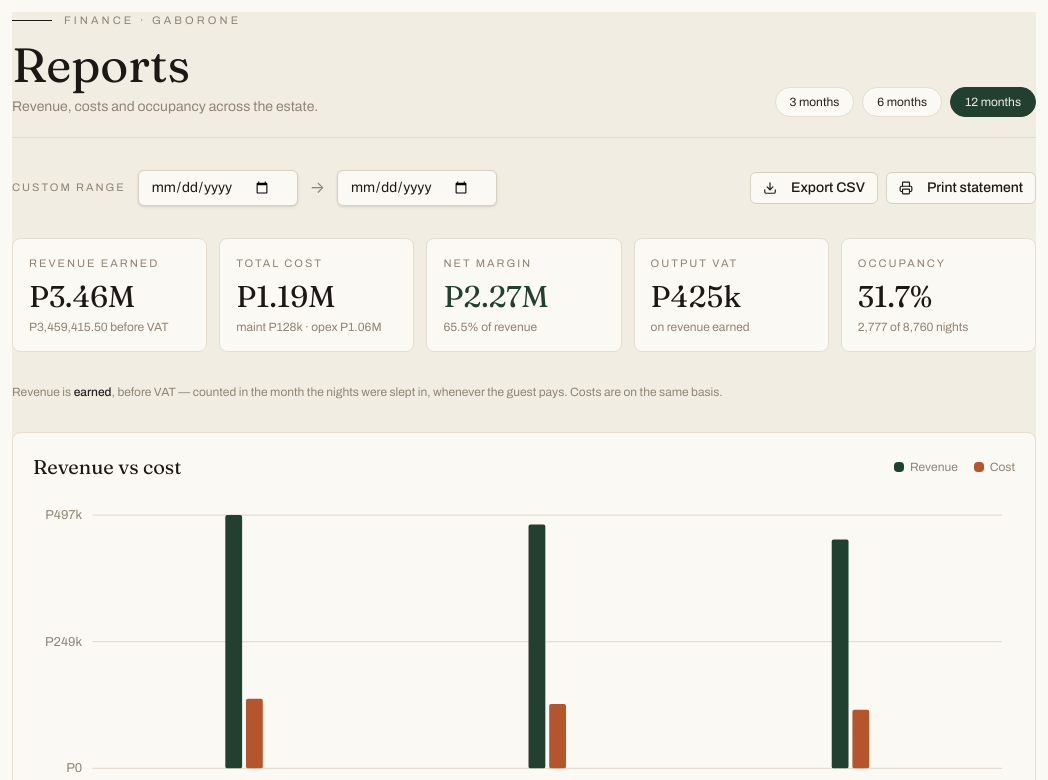
Test: ReportsPage › says when a custom range is back to front, and what it is showing instead
Type "2026-09-30" into the date field named "Custom range from".
click(218, 188); type("2026-09-30")  # box [138,170,298,206]
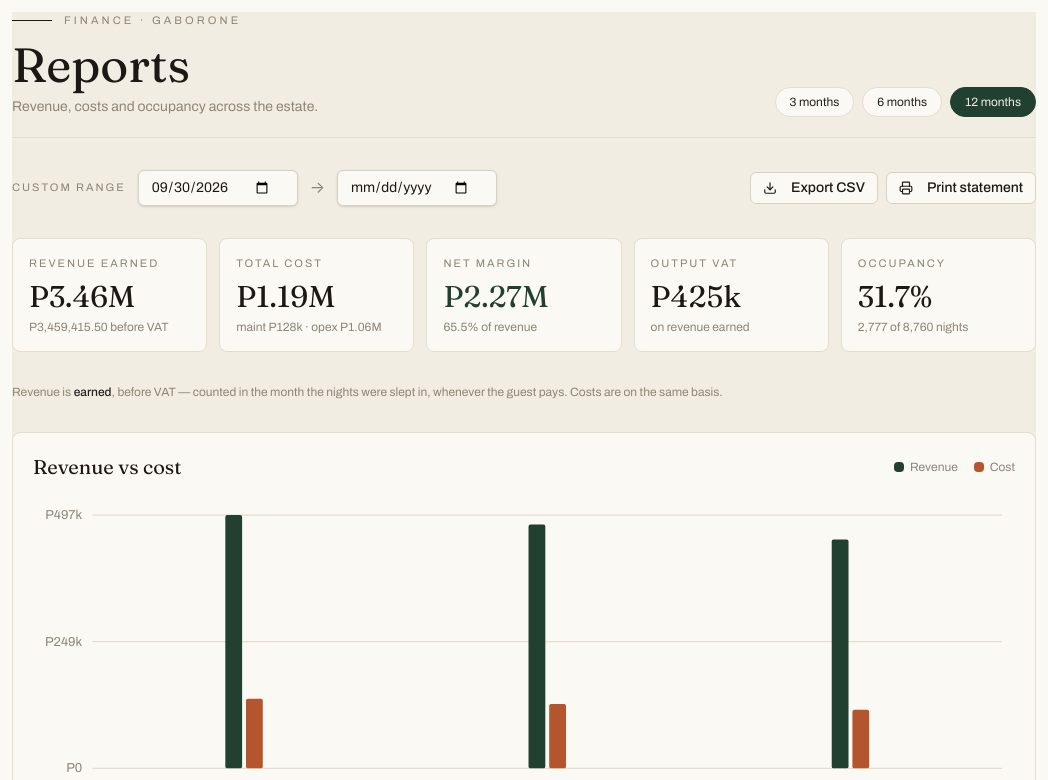
Type "2026-09-01" into the date field named "Custom range to".
click(417, 188); type("2026-09-01")  # box [337,170,497,206]
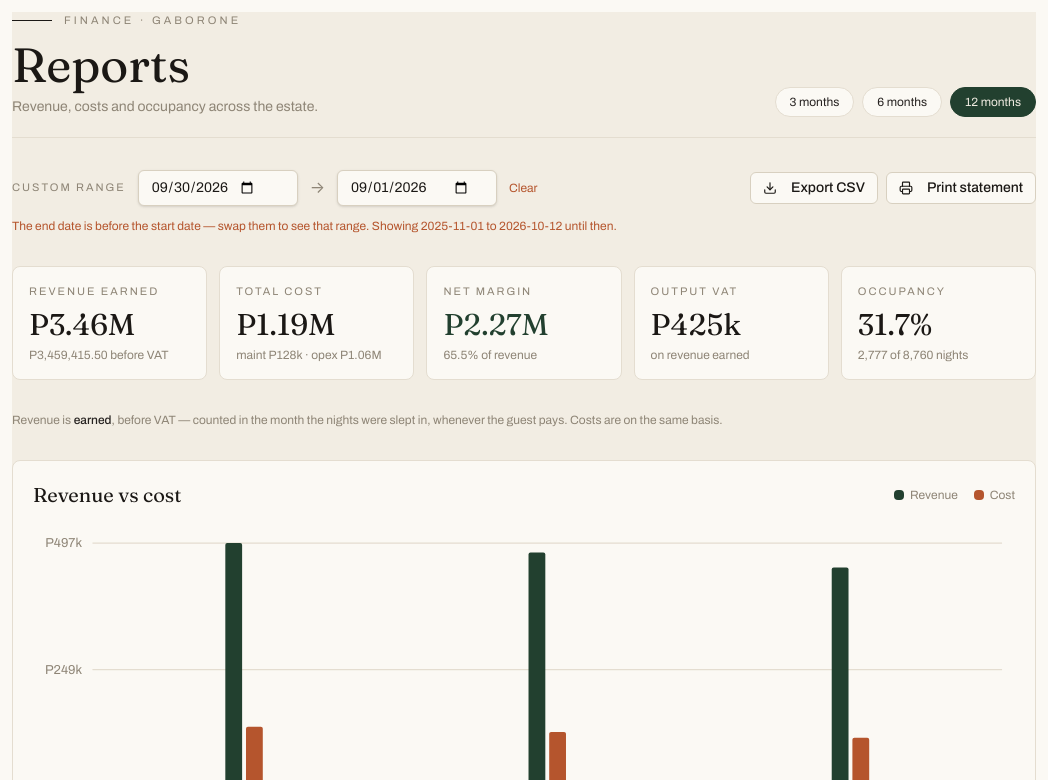
Now the message shows "The end date is before the start date", box [12,218,421,232]
